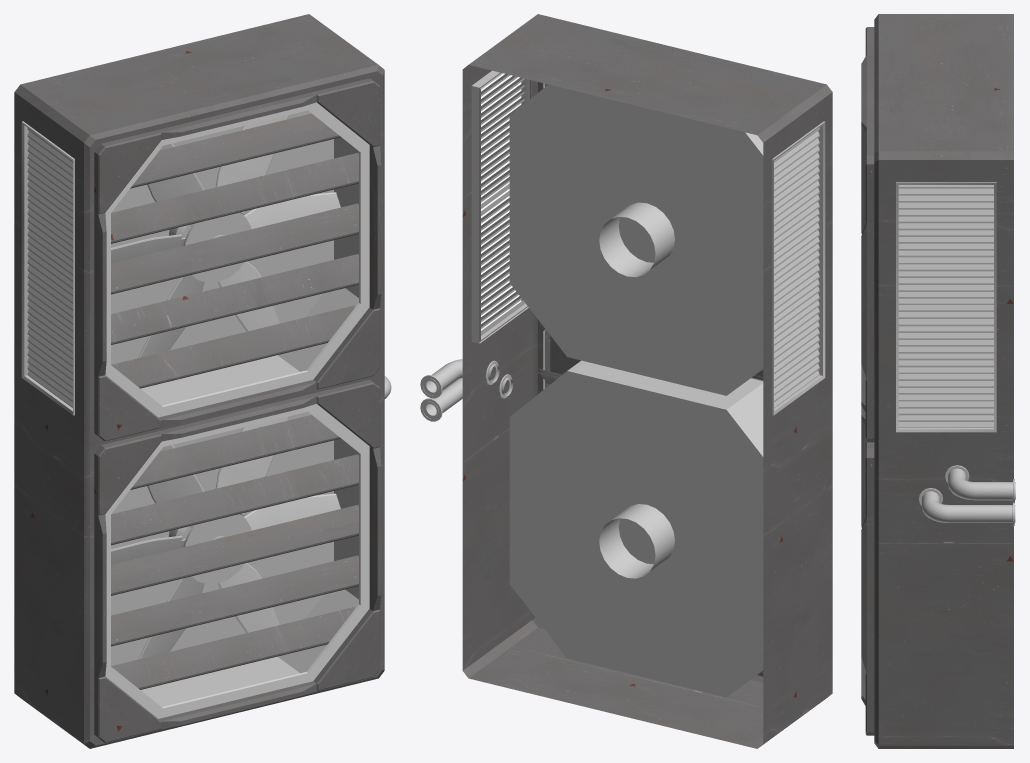
Rendered from KB3D_CBP_ACunit_J.fbx.
3 renders of one model, left to right at view 1: azimuth 30°, elevation 25°; view 2: azimuth 150°, elevation 25°; view 3: azimuth 270°, elevation 25°, orthographic. The views are drawn at different scales.
Parts seen in each view (by area): view 1: KB3D_CBP_ACunit_J_Main; view 2: KB3D_CBP_ACunit_J_Main; view 3: KB3D_CBP_ACunit_J_Main.
Boxes of the visible parts, bbox=[...] form: KB3D_CBP_ACunit_J_Main: bbox=[14, 14, 391, 748]; KB3D_CBP_ACunit_J_Main: bbox=[420, 14, 832, 748]; KB3D_CBP_ACunit_J_Main: bbox=[861, 14, 1015, 748].
Size of the model in its own units: 409 by 696 by 163.
